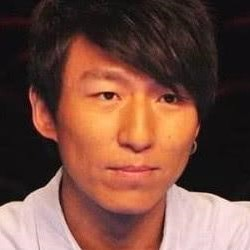unmask: (60, 48, 196, 217)
